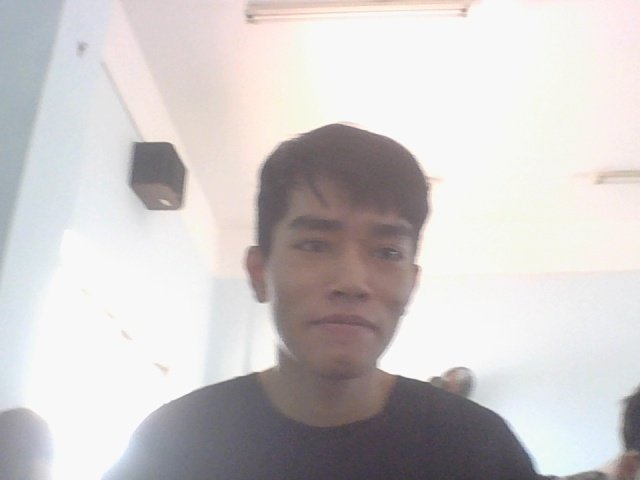real: (237, 105, 444, 399)
